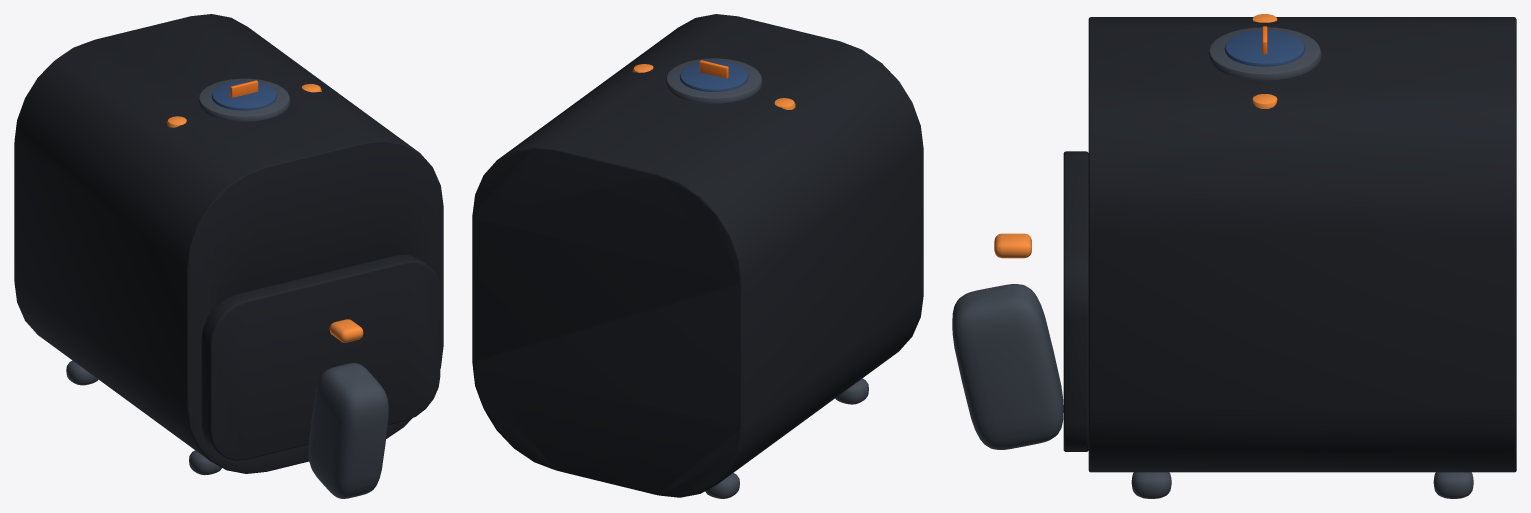
The model's file is air_fryer_preta.glb.
The picture shows the model from 3 angles, left to right: view 1: azimuth 30°, elevation 25°; view 2: azimuth 150°, elevation 25°; view 3: azimuth 270°, elevation 25°; orthographic projection. The views are drawn at different scales.
Visible parts, largest first — view 1: air_fryer_preta, cesto; view 2: air_fryer_preta; view 3: air_fryer_preta, cesto.
Boxes of the visible parts, x1,y1,x2,y2 form: air_fryer_preta: [14, 14, 443, 475]; cesto: [201, 254, 440, 498]; air_fryer_preta: [472, 14, 923, 498]; air_fryer_preta: [1088, 14, 1516, 498]; cesto: [952, 151, 1088, 451].
Bounding box in the file's own units: 0.29 × 0.36 × 0.4484.
Materials: 1 (1 with a texture image).
